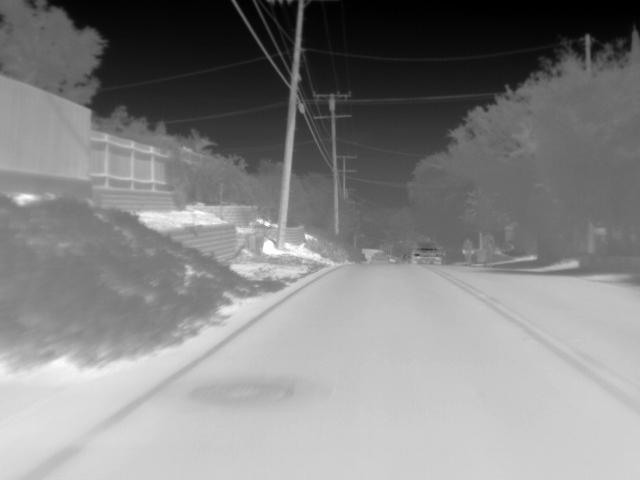car: (411, 241, 445, 263)
person: (481, 230, 497, 262), (461, 236, 477, 264)
